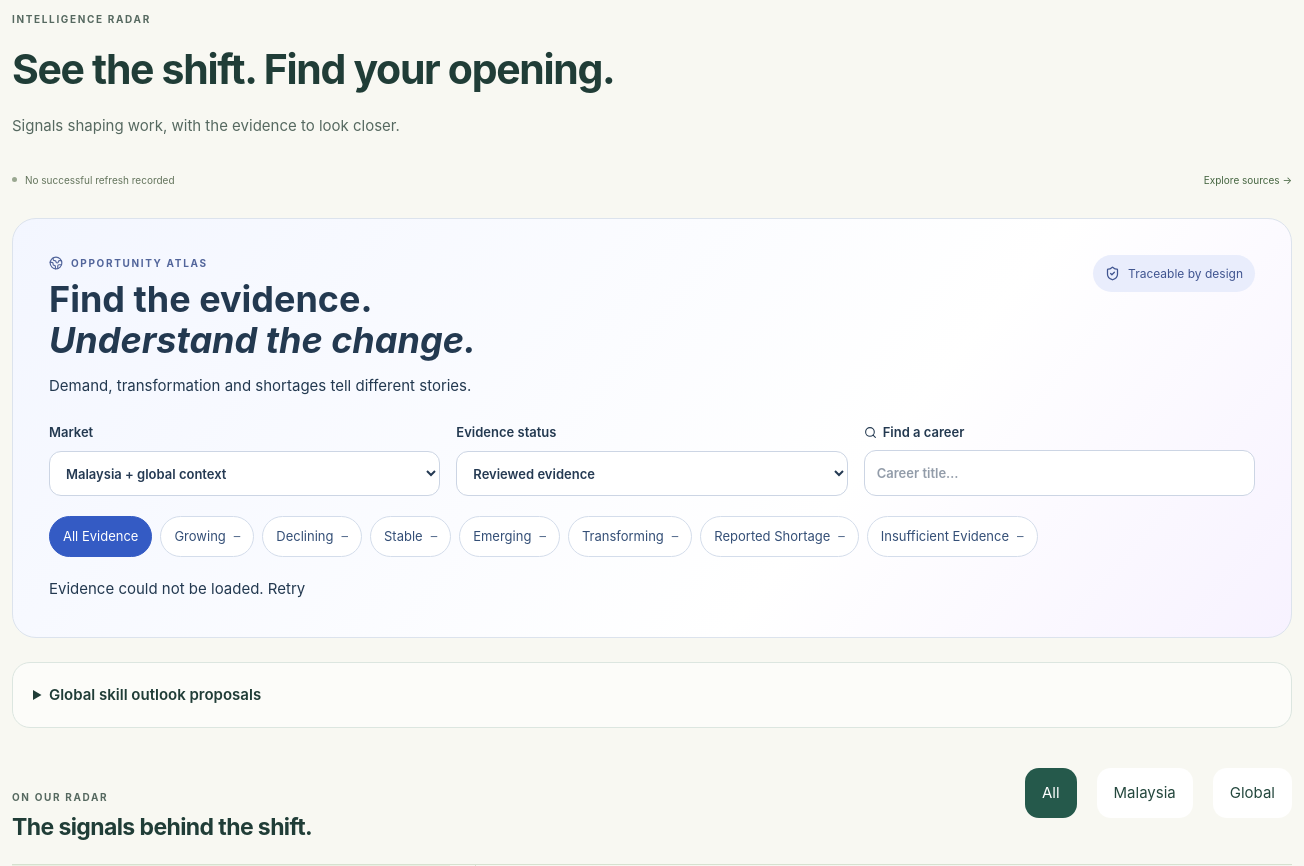
Test: focused evidence exploration › filters research and reveals source details without substituting a publication date
Click the button "Malaysia" at (1145, 793), box [1097, 768, 1193, 818]
(page scrolled)
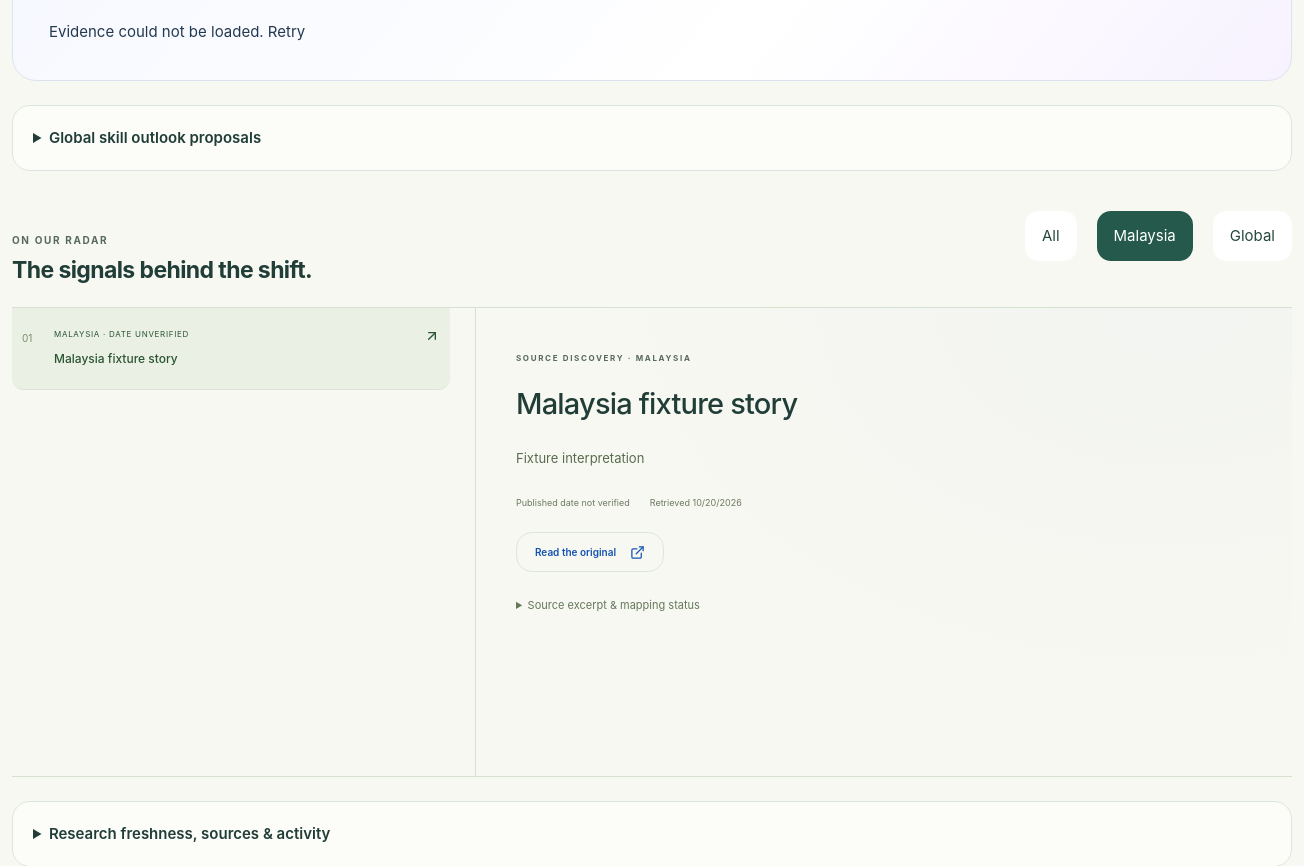
Expected: the text "Published date not verified" is shown, [516, 496, 630, 510]
Expected: the heading "Malaysia fixture story" is shown, [516, 386, 797, 421]
Click the heading "Source excerpt & mapping status" at (614, 605), box [528, 598, 700, 612]
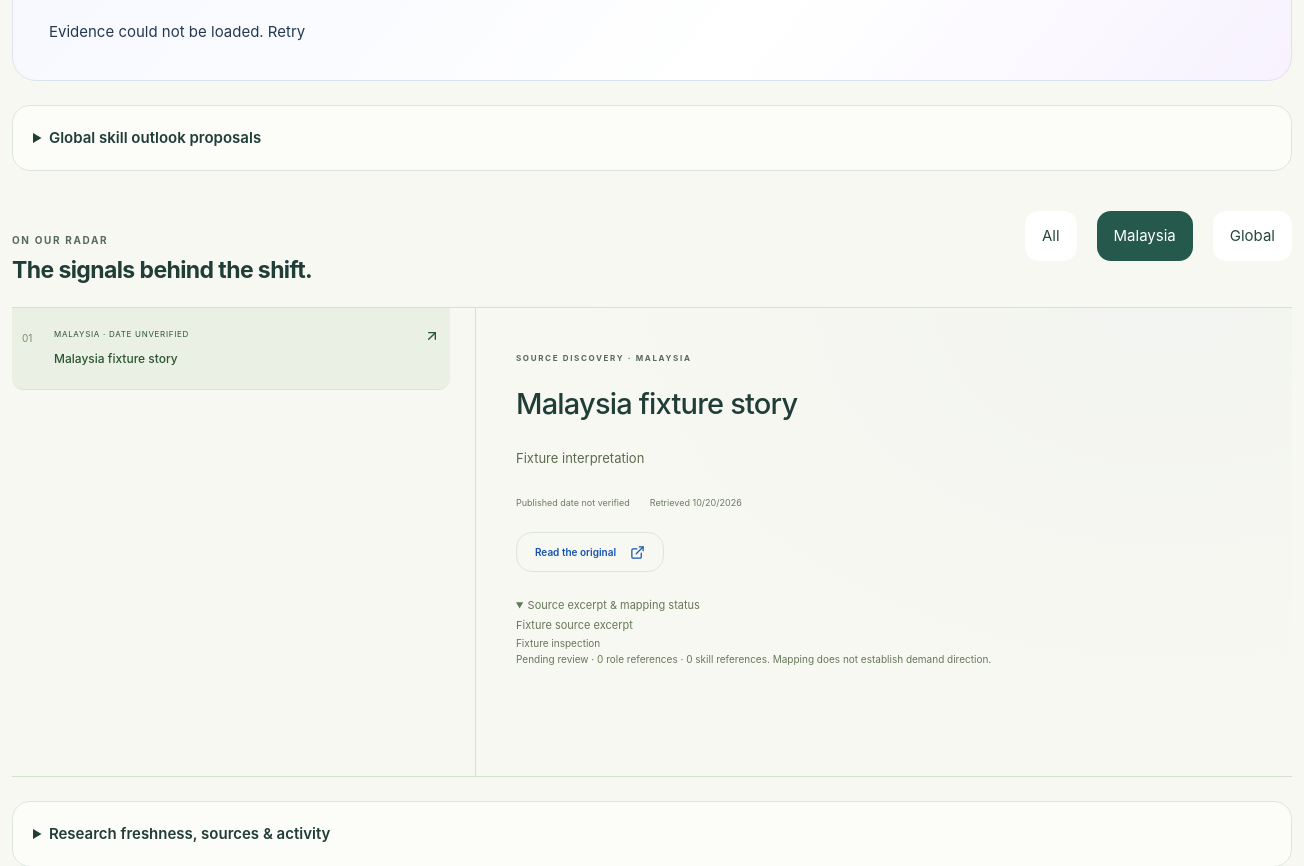
Expected: the text "Fixture source excerpt" is shown, [516, 618, 633, 632]
